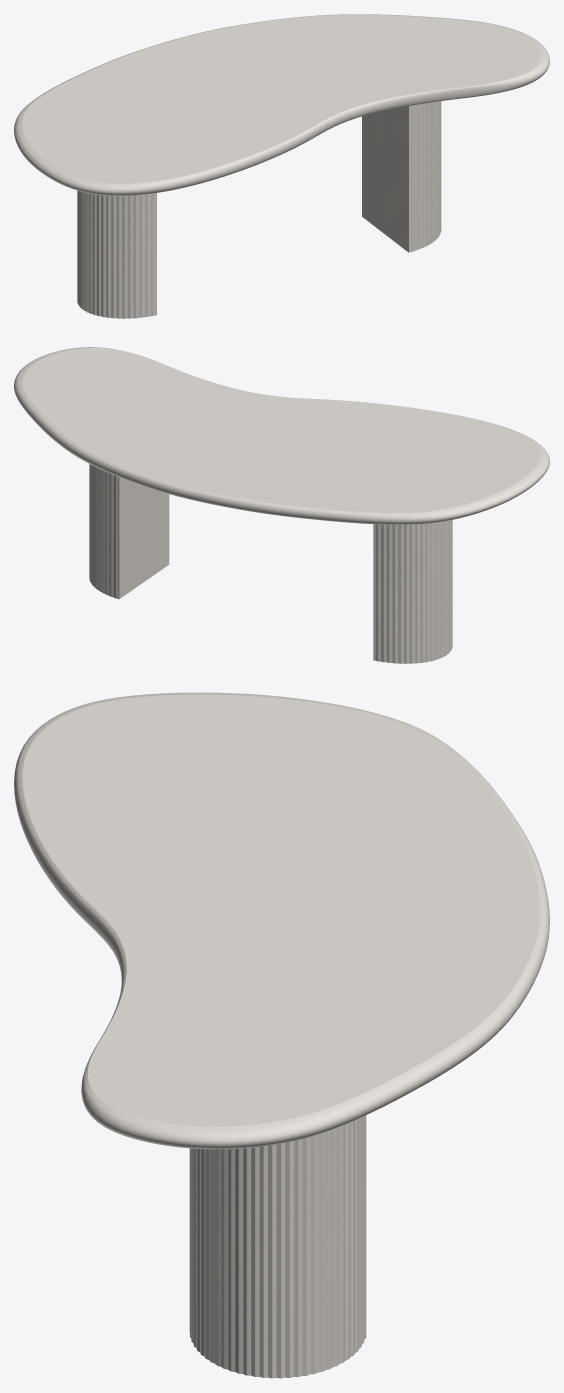
Rendered from pearlwhite_leaf1_round_flute.glb.
3 renders of one model, top to bottom at view 1: azimuth 30°, elevation 25°; view 2: azimuth 150°, elevation 25°; view 3: azimuth 270°, elevation 25°, orthographic. The views are drawn at different scales.
Visible parts, largest first — view 1: round_leaf1, flute; view 2: round_leaf1, flute; view 3: round_leaf1, flute.
Part boxes in pixels (x1,y1,x2,y2): round_leaf1: (14, 14, 549, 195); flute: (77, 101, 441, 318); round_leaf1: (14, 347, 549, 524); flute: (89, 464, 452, 663); round_leaf1: (14, 692, 549, 1149); flute: (189, 1115, 366, 1378).
Bounding box in the file's own units: 7.5 × 2.51 × 3.8.
Materials: 1 (1 with a texture image).
